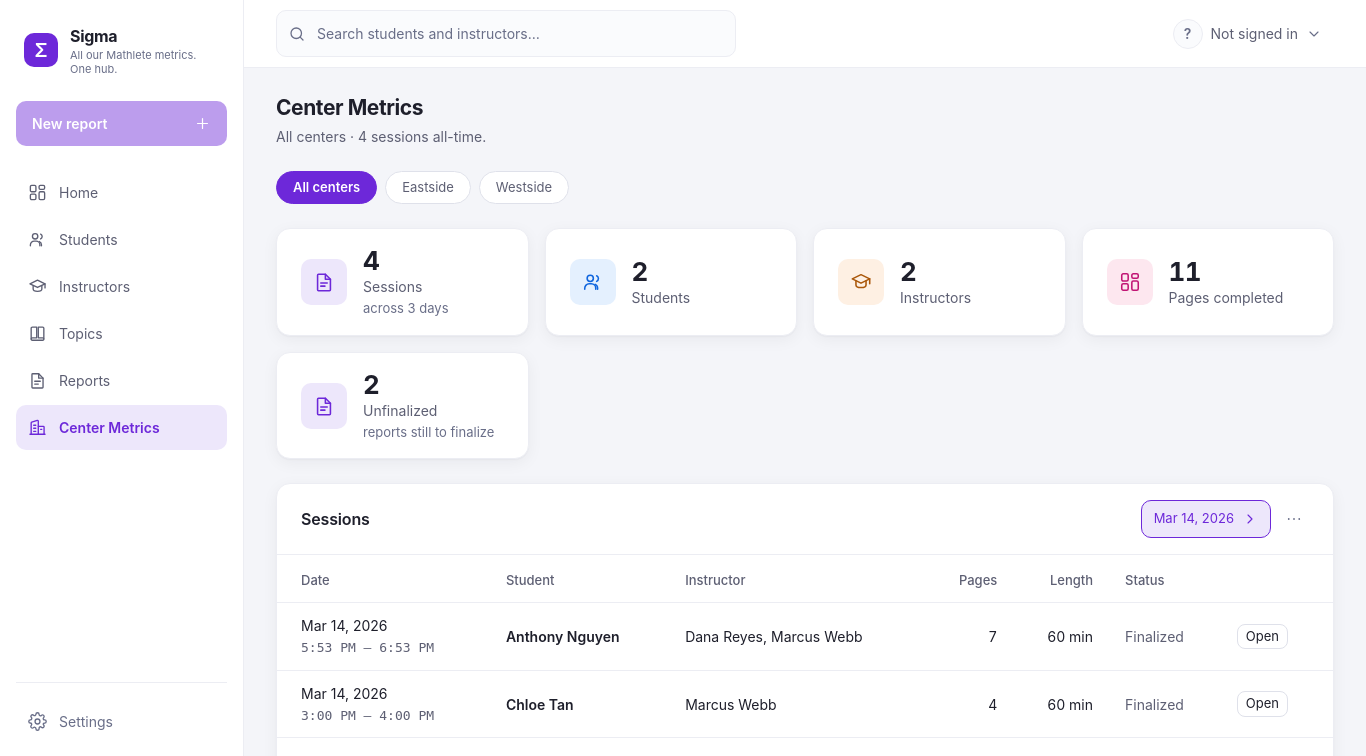
Scenario: center metrics page › puts the chosen center in the URL and narrows every figure to it
Click the button "Westside". click: (524, 187)
box: 479,170 -> 569,204
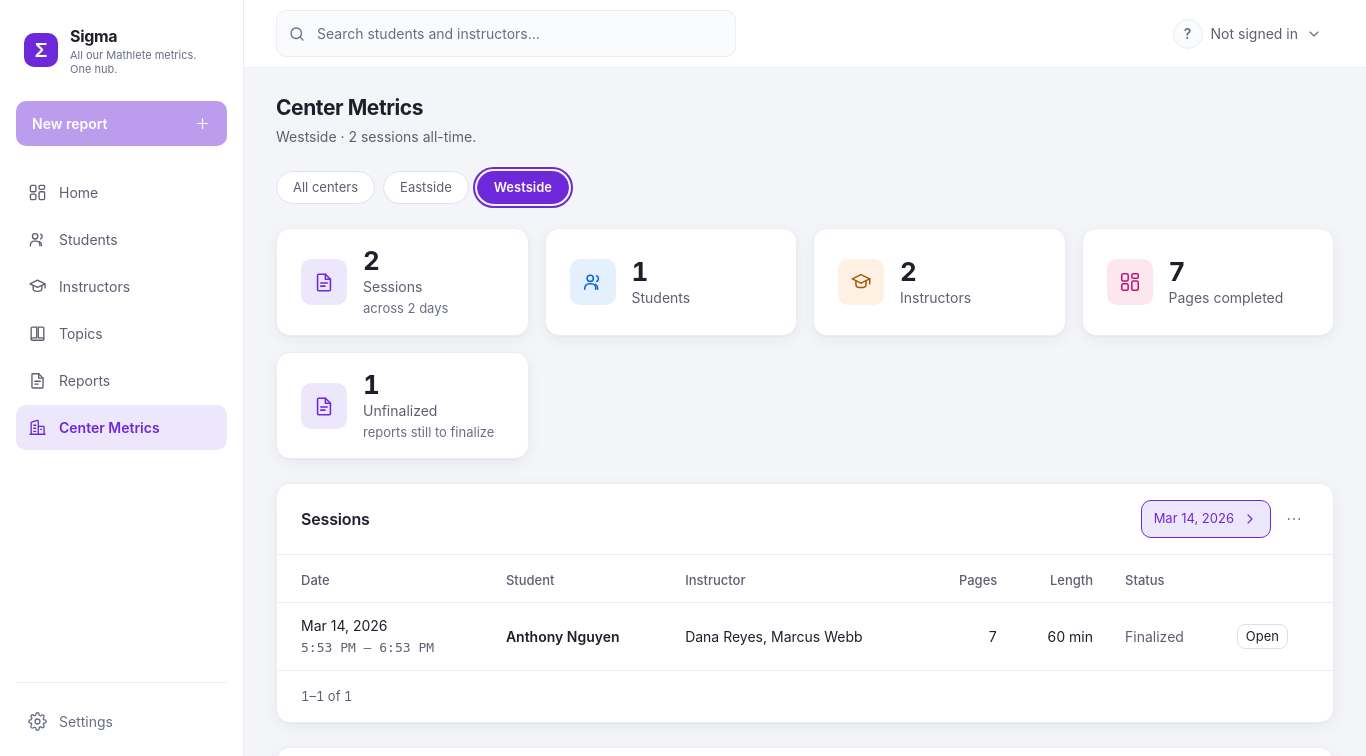
Check: the 1st text "2" is shown, box 363,245 -> 379,276
Check: the 1st text "1" is shown, box 632,256 -> 648,287
